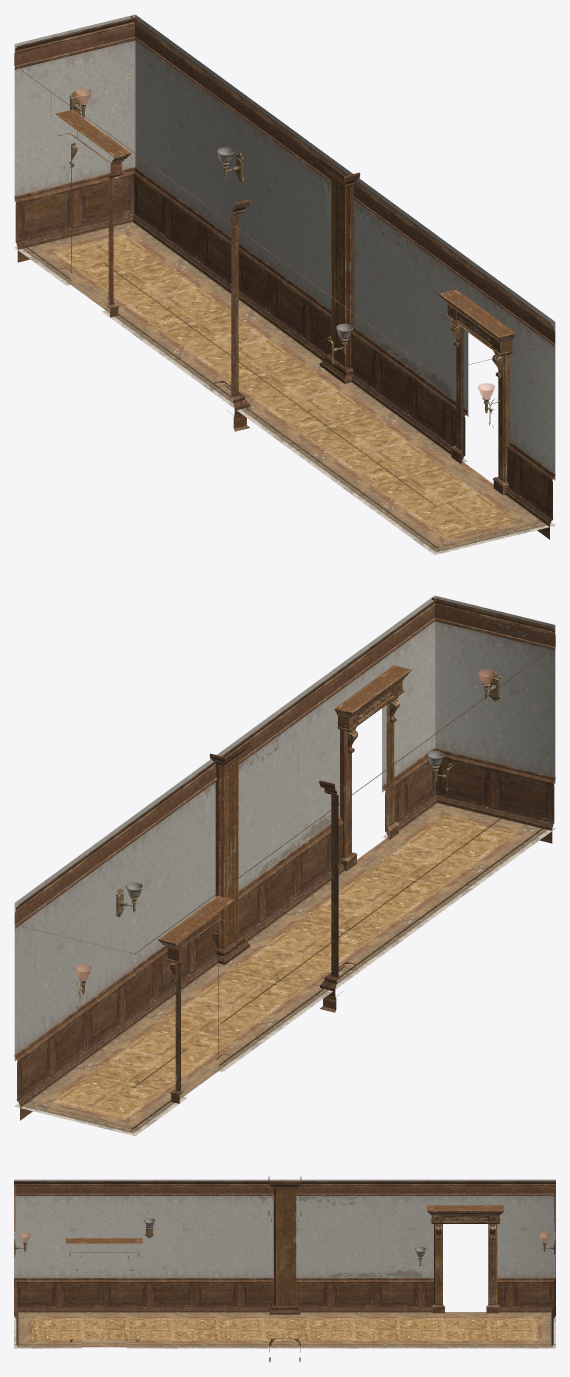
File: hallway.gltf
3 views of the same model, one above another, from view 1: azimuth 30°, elevation 25°; view 2: azimuth 150°, elevation 25°; view 3: azimuth 270°, elevation 25° (orthographic). The views are drawn at different scales.
Parts seen in each view (by area): view 1: wall_hallway, wainscot_hallway, floor_center_hallway, floor_edge_hallway, cornice_hallway, pillar_hallway, door_back_hallway, door_front_hallway, decal_wall_hallway, floor_gate_hallway; view 2: wall_hallway, floor_center_hallway, wainscot_hallway, floor_edge_hallway, cornice_hallway, pillar_hallway, door_back_hallway, door_front_hallway, decal_wall_hallway, floor_gate_hallway; view 3: wall_hallway, wainscot_hallway, floor_center_hallway, floor_edge_hallway, cornice_hallway, pillar_hallway, door_front_hallway, decal_wall_hallway, floor_gate_hallway, door_back_hallway.
Boxes of the visible parts, left/top/right/bottom form: wall_hallway: left=14, top=14, right=555, bottom=480; wainscot_hallway: left=14, top=167, right=555, bottom=550; floor_center_hallway: left=52, top=234, right=516, bottom=538; floor_edge_hallway: left=14, top=222, right=555, bottom=555; cornice_hallway: left=14, top=16, right=555, bottom=373; pillar_hallway: left=211, top=158, right=360, bottom=431; door_back_hallway: left=438, top=289, right=515, bottom=495; door_front_hallway: left=55, top=109, right=131, bottom=317; decal_wall_hallway: left=323, top=178, right=464, bottom=399; floor_gate_hallway: left=71, top=280, right=494, bottom=492; wall_hallway: left=14, top=595, right=555, bottom=1061; floor_center_hallway: left=53, top=815, right=517, bottom=1119; wainscot_hallway: left=14, top=748, right=555, bottom=1131; floor_edge_hallway: left=14, top=803, right=555, bottom=1136; cornice_hallway: left=14, top=597, right=555, bottom=954; pillar_hallway: left=209, top=739, right=358, bottom=1012; door_back_hallway: left=334, top=665, right=411, bottom=870; door_front_hallway: left=158, top=896, right=234, bottom=1103; decal_wall_hallway: left=202, top=731, right=339, bottom=877; floor_gate_hallway: left=164, top=838, right=405, bottom=1096; wall_hallway: left=14, top=1179, right=555, bottom=1277; wainscot_hallway: left=14, top=1278, right=555, bottom=1346; floor_center_hallway: left=32, top=1318, right=537, bottom=1340; floor_edge_hallway: left=14, top=1312, right=555, bottom=1348; cornice_hallway: left=14, top=1181, right=555, bottom=1231; pillar_hallway: left=268, top=1176, right=301, bottom=1361; door_front_hallway: left=427, top=1205, right=503, bottom=1313; decal_wall_hallway: left=256, top=1196, right=433, bottom=1277; floor_gate_hallway: left=81, top=1312, right=488, bottom=1347; door_back_hallway: left=66, top=1238, right=142, bottom=1342.
Size of the model in its own units: 2.06 by 3.6 by 12.
14 materials, 14 textured.
